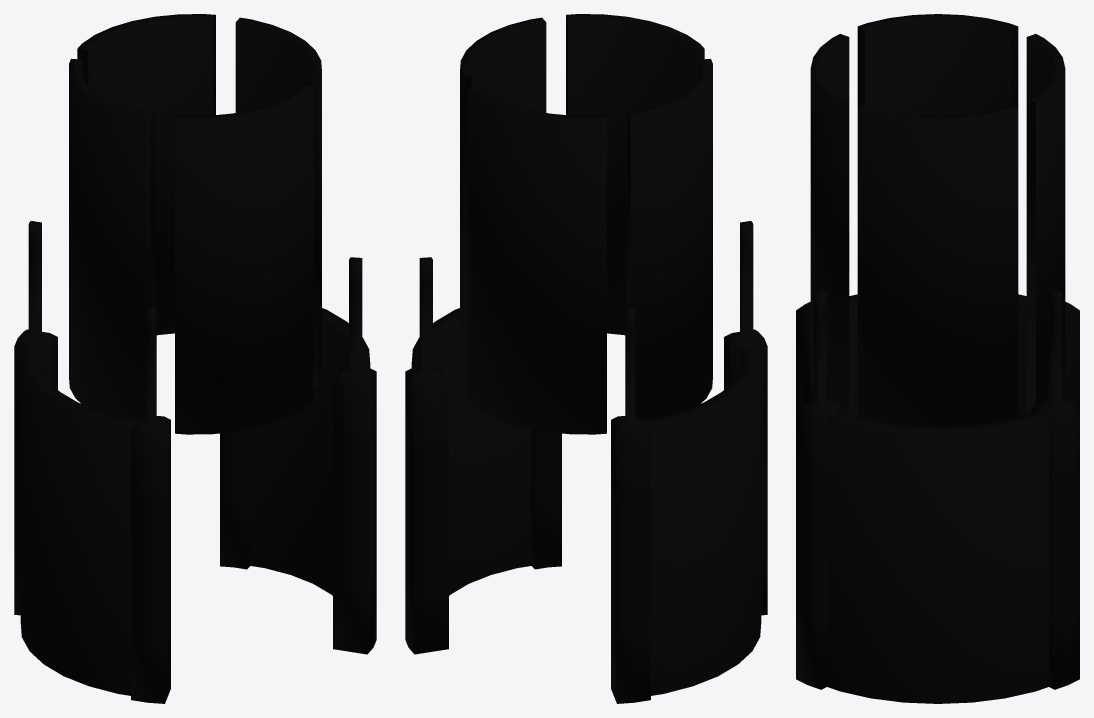
The model's file is EductaionCentre_L.dae.
3 renders of one model, left to right at view 1: azimuth 30°, elevation 25°; view 2: azimuth 150°, elevation 25°; view 3: azimuth 270°, elevation 25°, orthographic.
Visible parts, largest first — view 1: EductaionCentre_L; view 2: EductaionCentre_L; view 3: EductaionCentre_L.
Part boxes in pixels (x1,y1,x2,y2): EductaionCentre_L: (14,14,376,703); EductaionCentre_L: (405,14,767,703); EductaionCentre_L: (796,14,1079,703).
Size of the model in its own units: 35.4 by 28.59 by 62.5.
